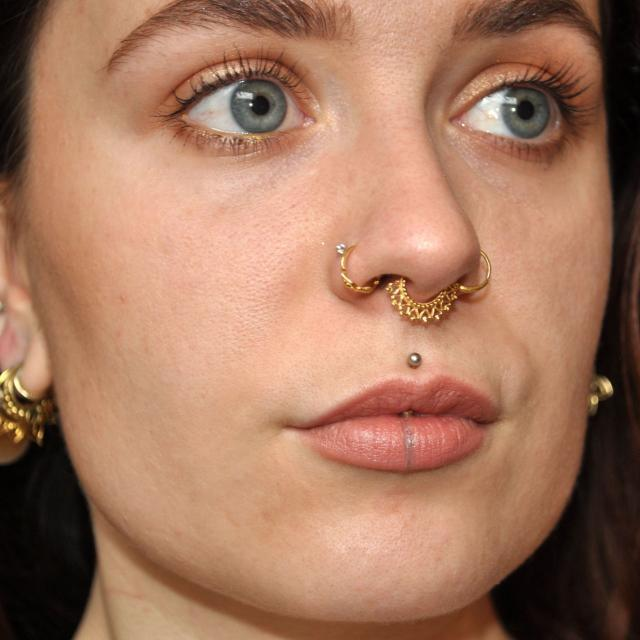Earring: (0, 356, 75, 464), (590, 376, 614, 424)
